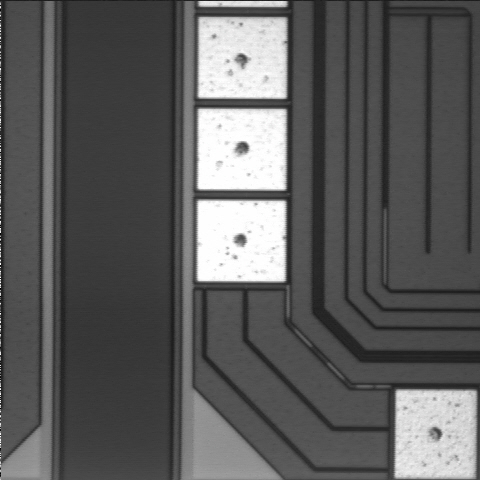pad: (198, 17, 287, 99), (197, 200, 286, 282), (197, 109, 286, 190)
